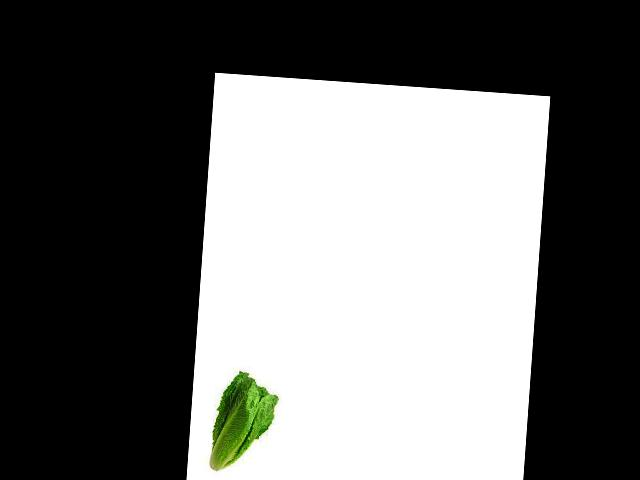lettuce: (188, 352, 287, 466)
